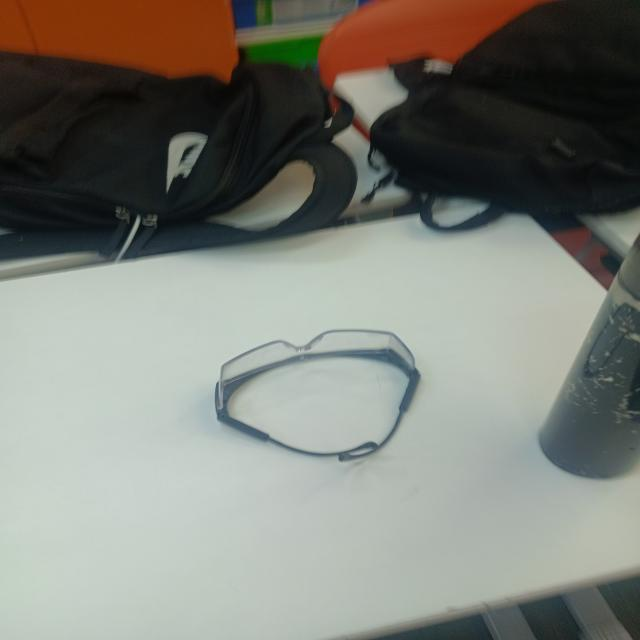oculos-epi: (216, 329, 420, 462)
